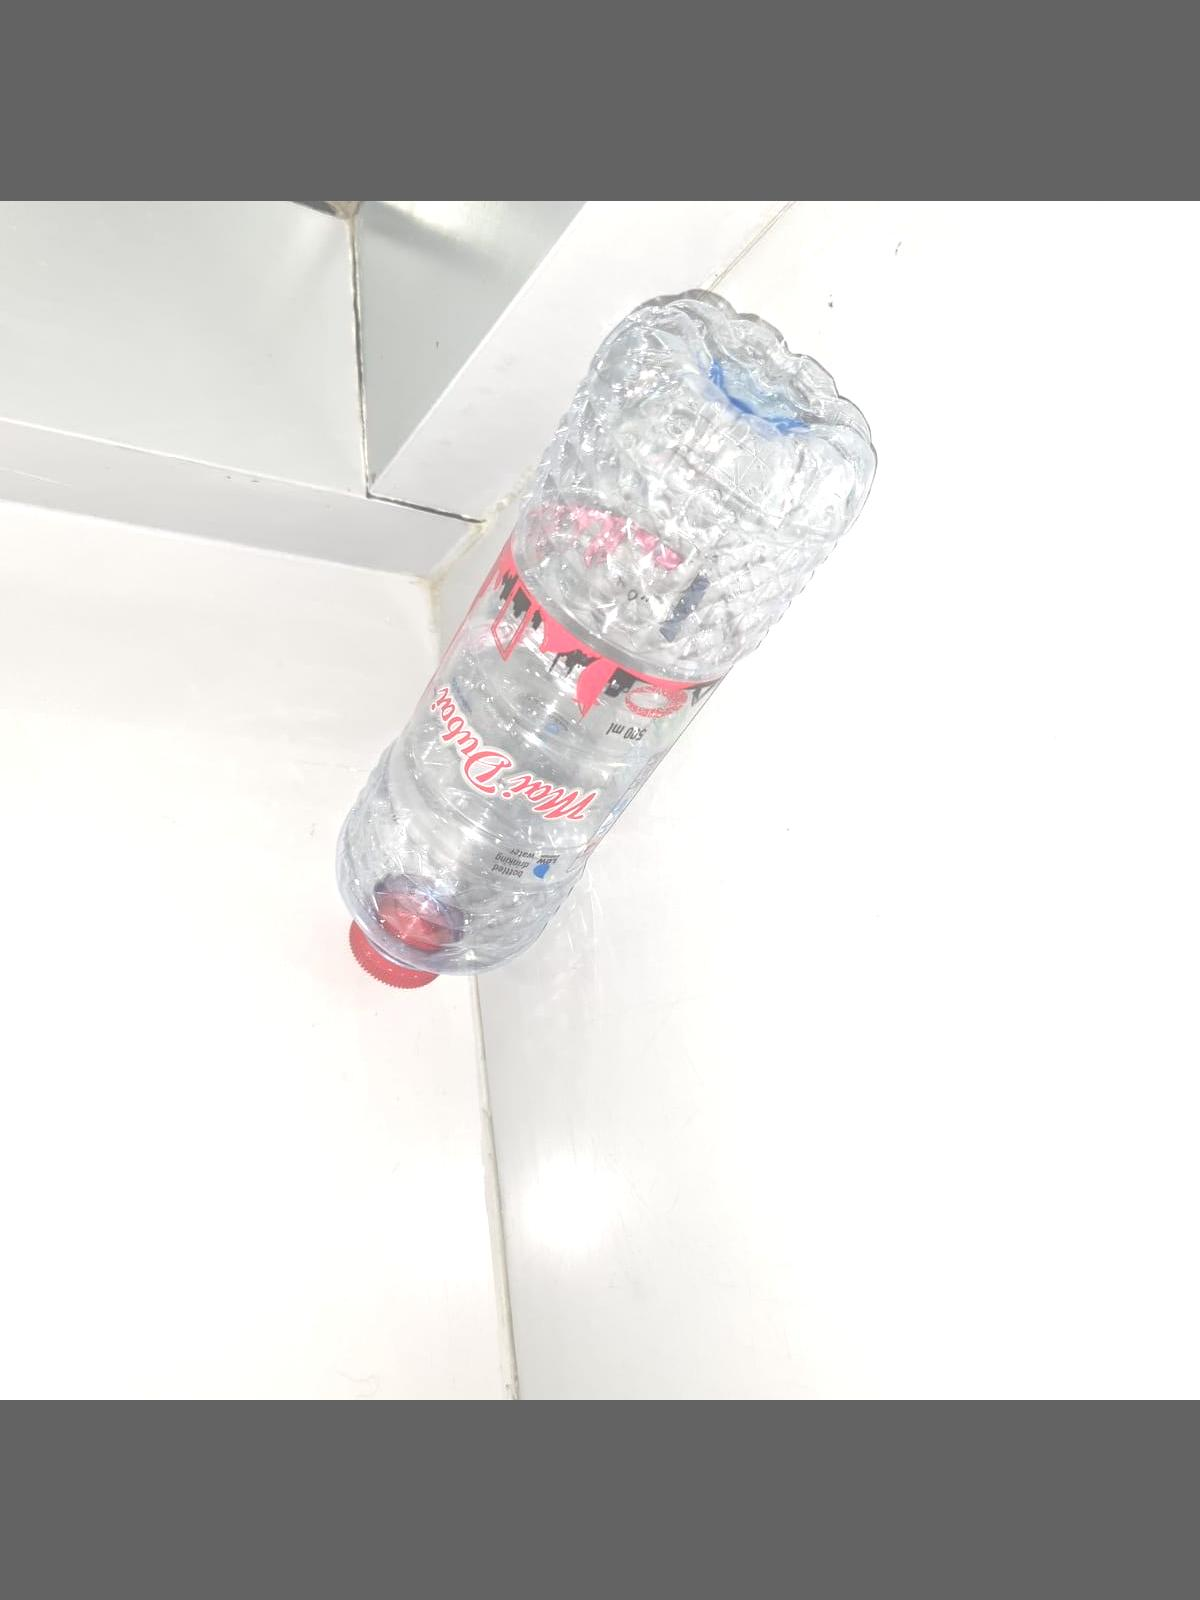bottle: (310, 271, 892, 1000)
